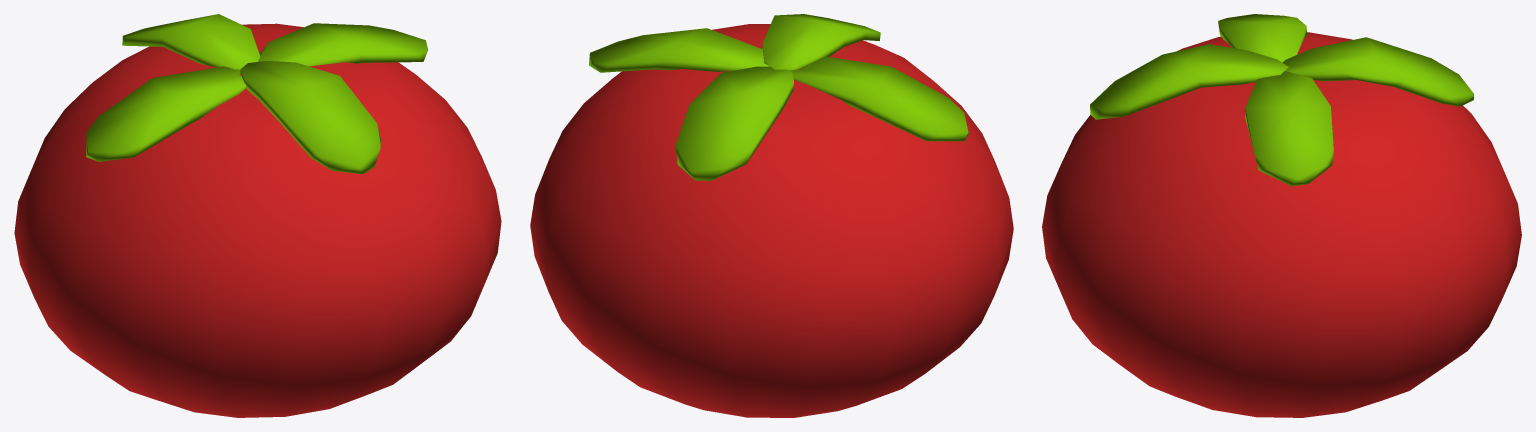
Rendered from red_tomato.glb.
3 renders of one model, left to right at view 1: azimuth 30°, elevation 25°; view 2: azimuth 150°, elevation 25°; view 3: azimuth 270°, elevation 25°, orthographic.
Parts seen in each view (by area): view 1: red_tomato; view 2: red_tomato; view 3: red_tomato.
Boxes of the visible parts, x1,y1,x2,y2 form: red_tomato: (14, 14, 501, 417); red_tomato: (530, 14, 1013, 417); red_tomato: (1042, 14, 1521, 417).
Bounding box in the file's own units: 0.5378 × 0.4132 × 0.546.
Materials: 1 (1 with a texture image).
